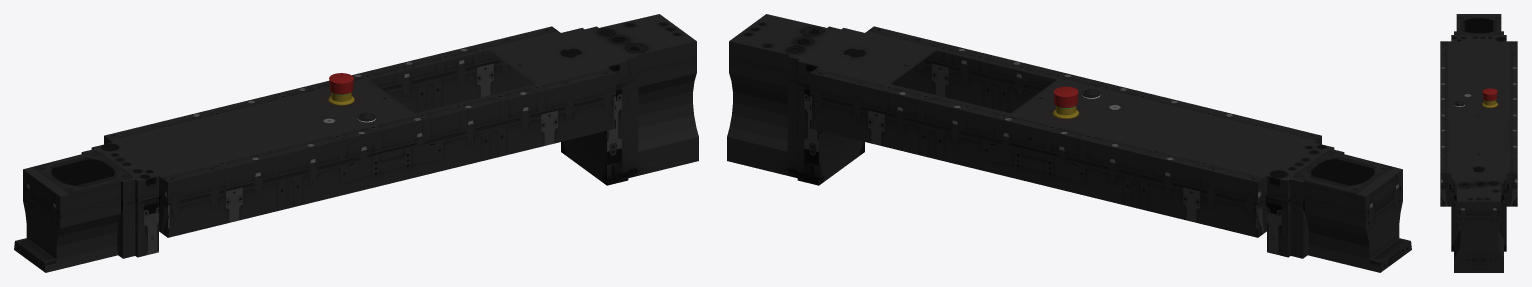
3 views of the same model, side by side, from view 1: azimuth 30°, elevation 25°; view 2: azimuth 150°, elevation 25°; view 3: azimuth 270°, elevation 25° (orthographic). The views are drawn at different scales.
Parts seen in each view (by area): view 1: AM3 Trunk LP, AM3 Trunk Detailed HD.001; view 2: AM3 Trunk LP, AM3 Trunk Detailed HD.001; view 3: AM3 Trunk LP, AM3 Trunk Detailed HD.001.
Boxes of the visible parts, x1,y1,x2,y2 form: AM3 Trunk LP: (14, 14, 698, 272); AM3 Trunk Detailed HD.001: (328, 73, 354, 105); AM3 Trunk LP: (727, 14, 1411, 272); AM3 Trunk Detailed HD.001: (1053, 86, 1078, 118); AM3 Trunk LP: (1440, 14, 1517, 272); AM3 Trunk Detailed HD.001: (1482, 88, 1497, 107).
Bounding box in the file's own units: 0.8143 × 0.1393 × 0.1702.
6 materials, 1 textured.
